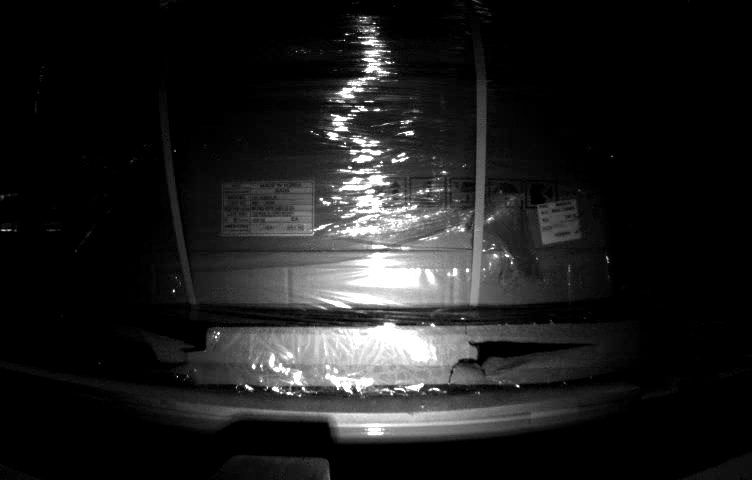True Barcode: (534, 197, 585, 240)
